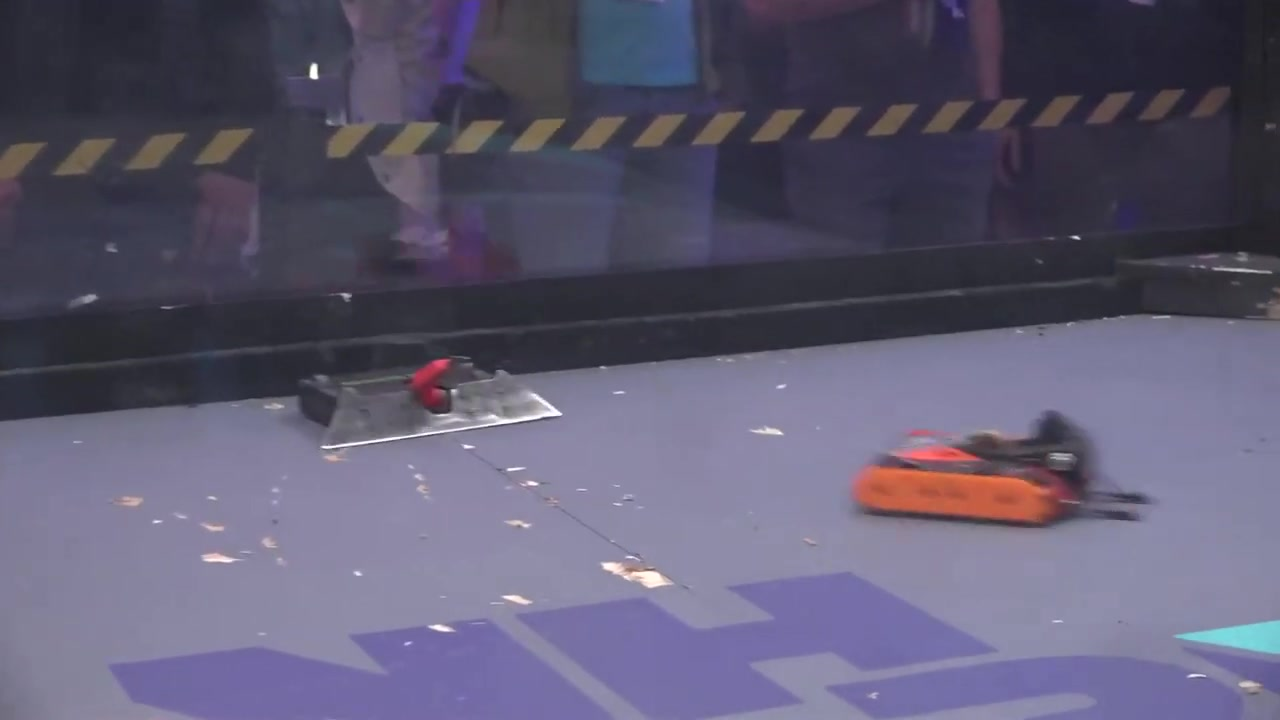combatbot: (850, 411, 1156, 533), (301, 358, 564, 448)
